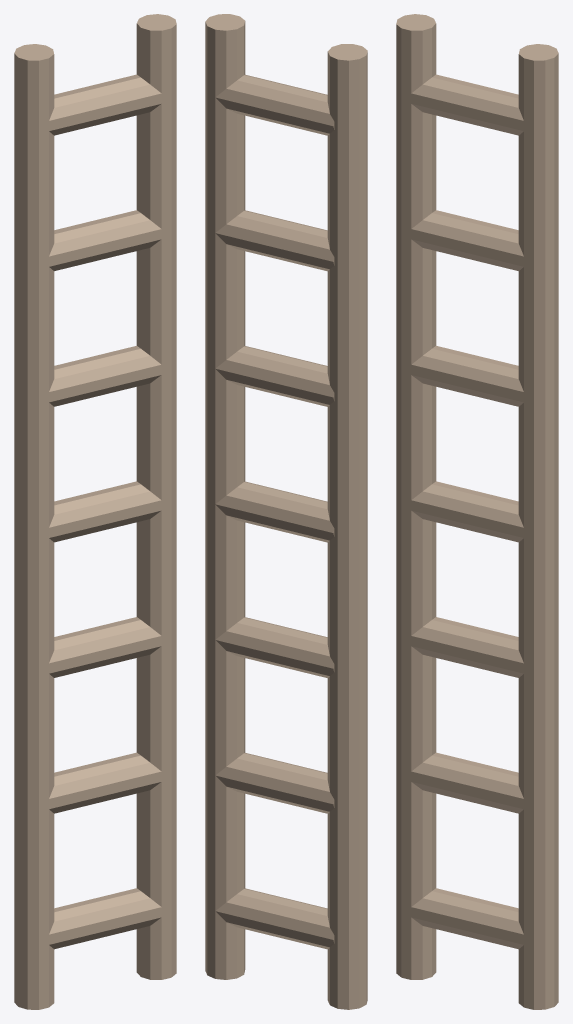
Rendered from Ladder.fbx.
3 views of the same model, side by side, from view 1: azimuth 30°, elevation 25°; view 2: azimuth 150°, elevation 25°; view 3: azimuth 330°, elevation 25° (orthographic).
Visible parts, largest first — view 1: Cylinder.002; view 2: Cylinder.002; view 3: Cylinder.002.
Boxes of the visible parts, x1,y1,x2,y2 form: Cylinder.002: [14, 14, 176, 1009]; Cylinder.002: [205, 14, 367, 1009]; Cylinder.002: [396, 14, 558, 1009].
Bounding box in the file's own units: 357 × 2060 × 77.8.
